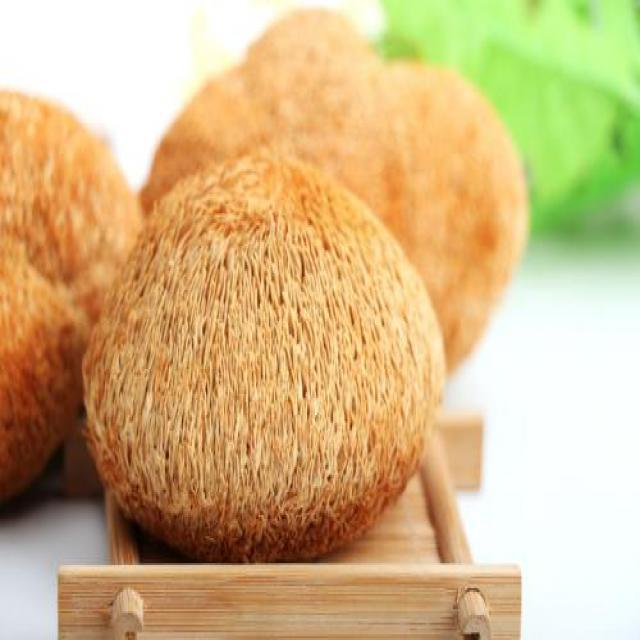Hericium erinaceus: (136, 13, 527, 390), (84, 151, 443, 555), (0, 87, 141, 514)
